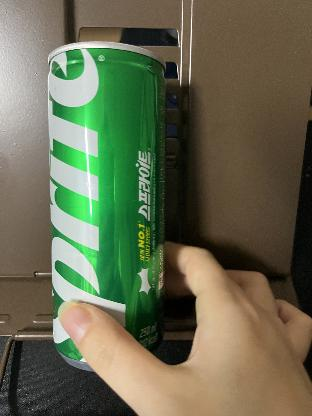Can: (45, 40, 171, 367)
